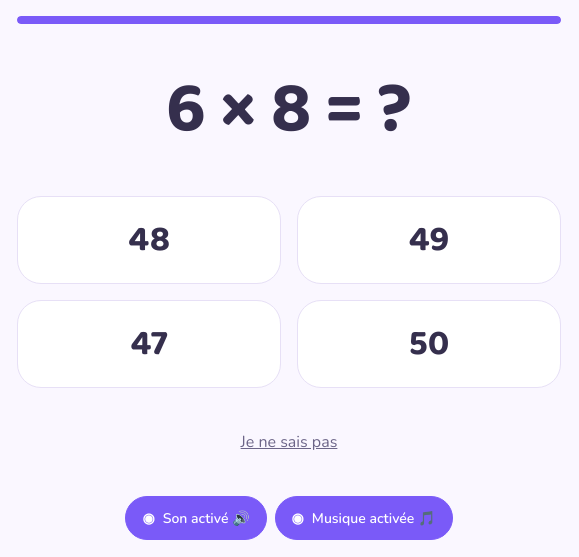
it: PlayScreen — quick-mute enfant NO-PIN in-game (story 8.6, #282, DETAILS §3, ADR 0017) › reste visible pendant le FEEDBACK (branche non-« asking ») — pas seulement pendant la question
Expected: the text "6 × 8 = ?" is shown, [166,56,412,164]
What coordinates should you click on to do the following:
click the button "48"
I would click on:
 (149, 240)
Its box is [17,196,281,284].
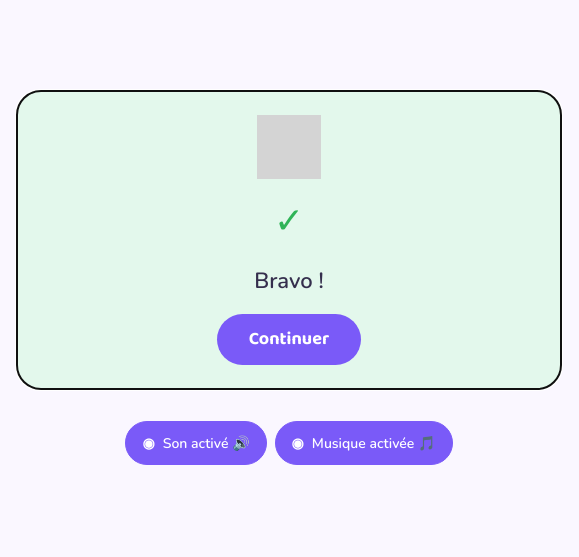
Expected: the switch labelled "Son activé 🔊" is shown, [126,421,267,465]
Expected: the message "✓ Bravo !" is shown, [17,91,561,389]
